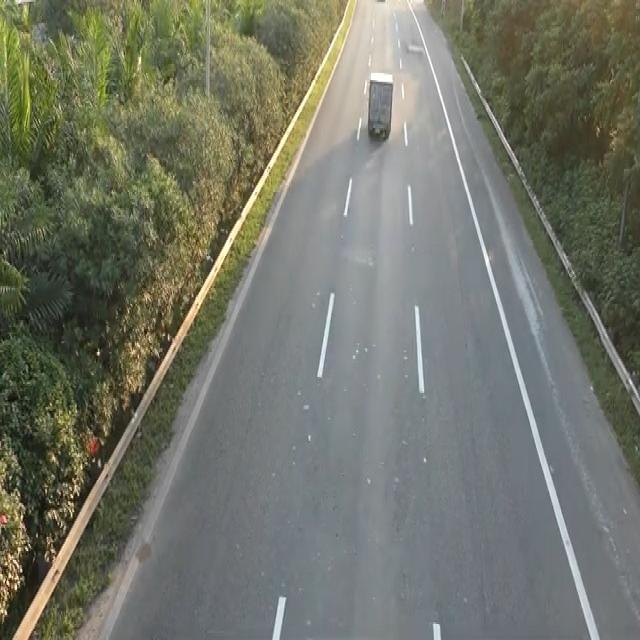minivan: (366, 68, 394, 142)
